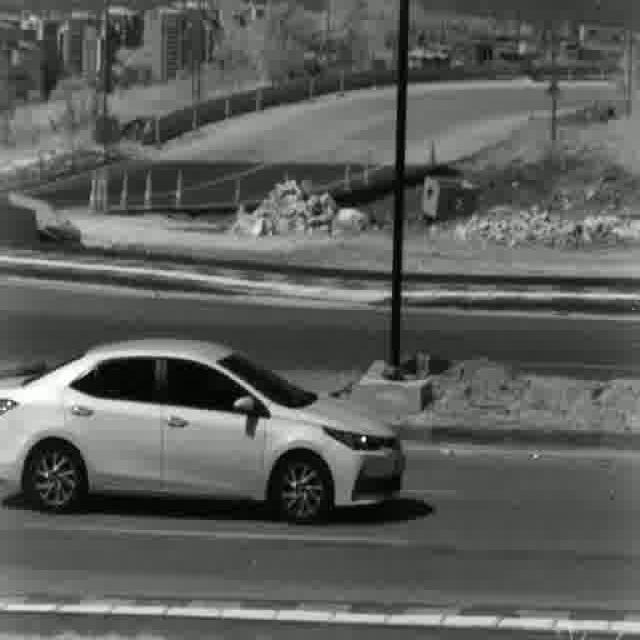Car: (0, 335, 408, 530)
